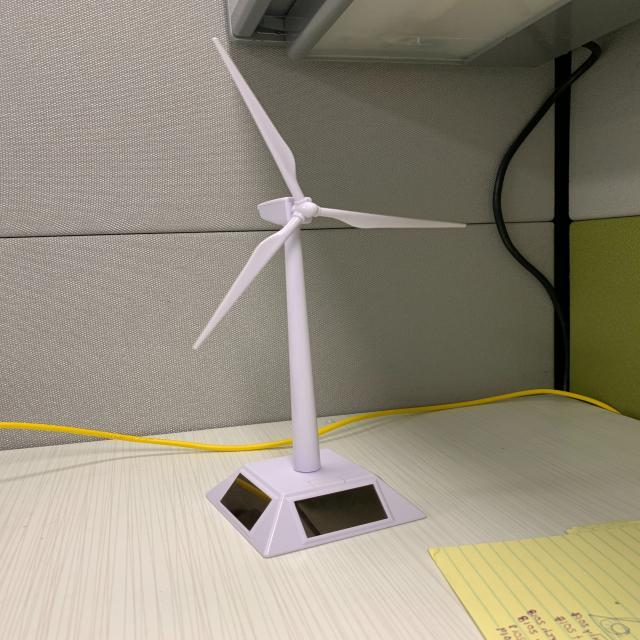solid-blade: (213, 38, 304, 198), (192, 216, 301, 349), (316, 208, 465, 229)
